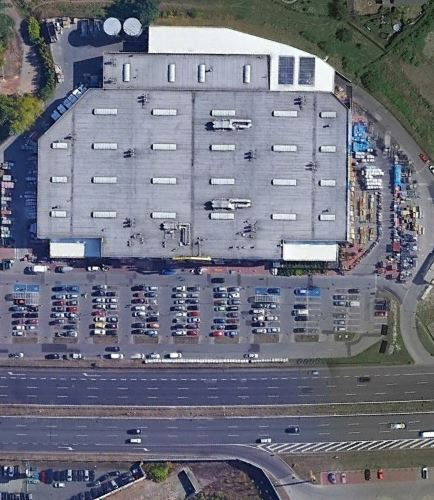shopping_center: (33, 19, 358, 279)
